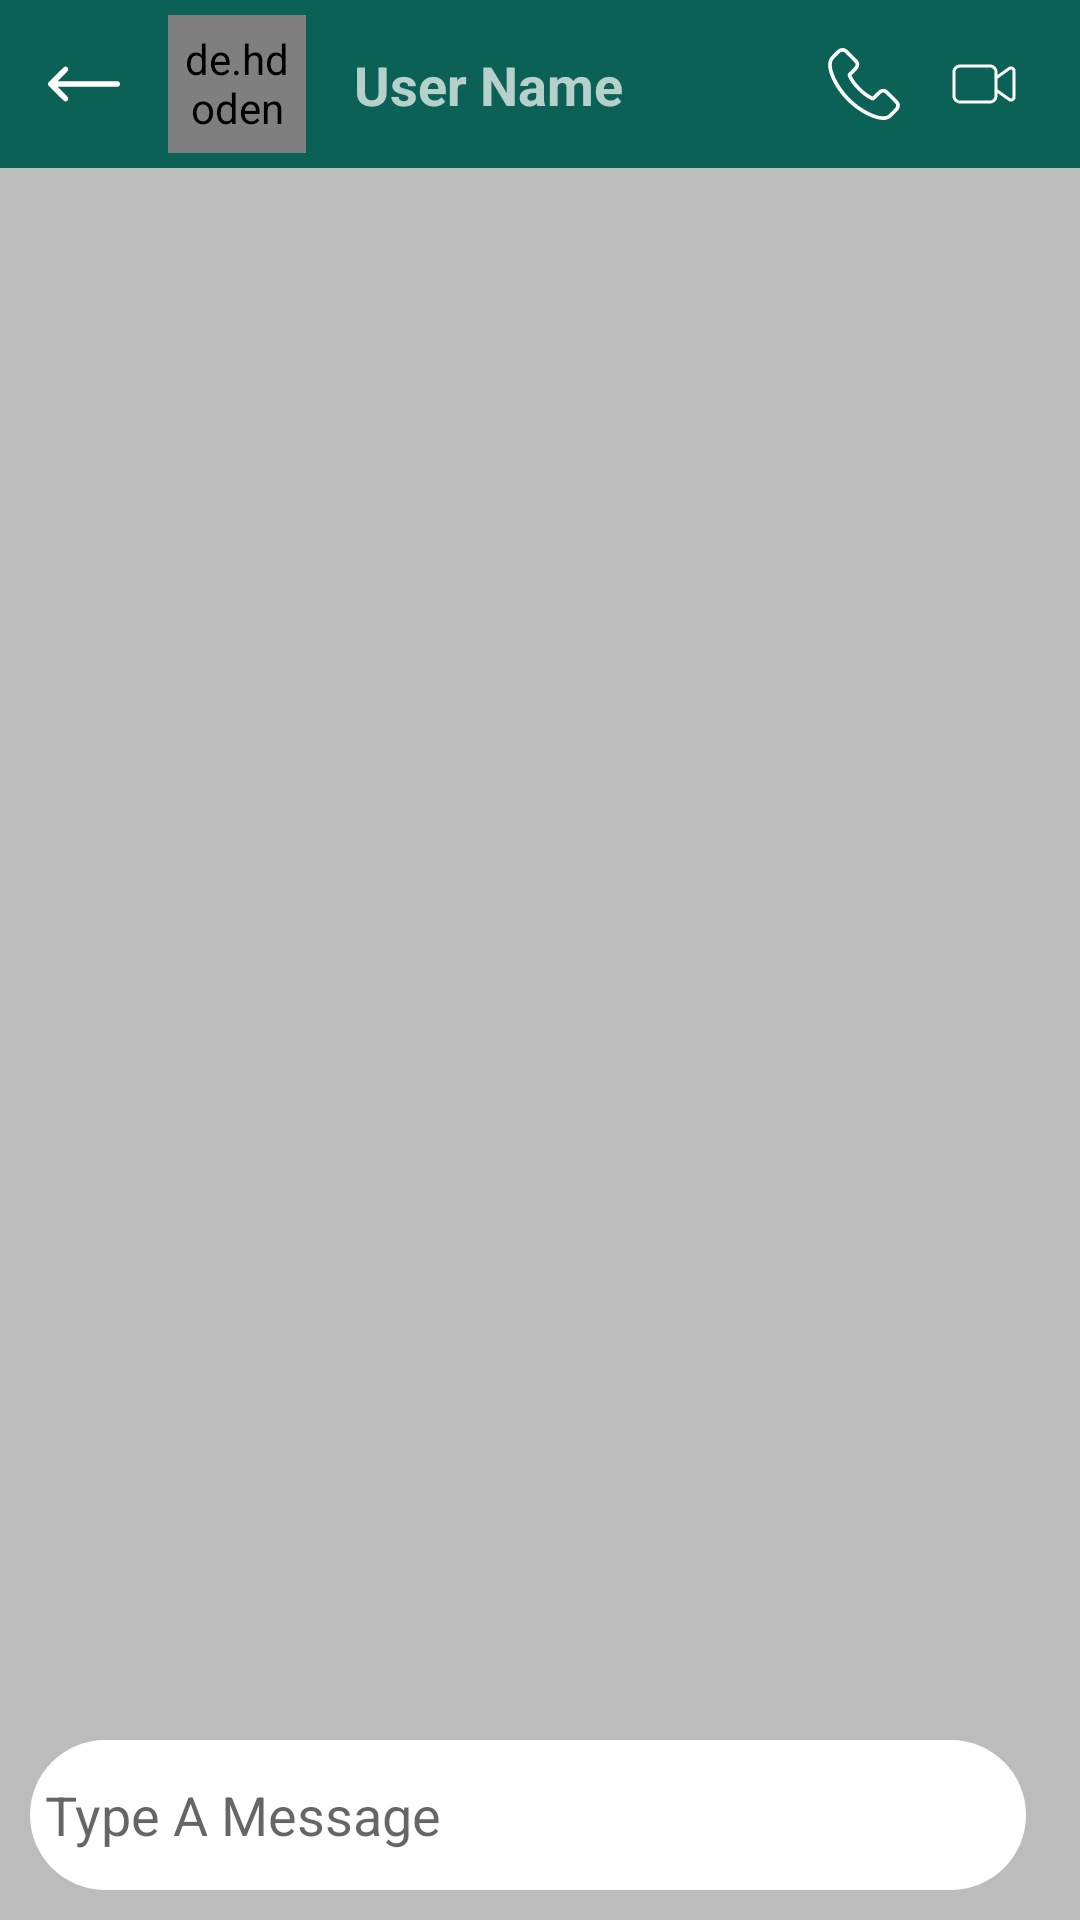

Icon bounding boxes for this 1080px x 1920px phone screenshot, format BBox(x1, y1, x2, y2):
cam recorder: BBox(952, 64, 1016, 104)
left arrow: BBox(48, 66, 120, 102)
telephone: BBox(828, 48, 900, 120)
